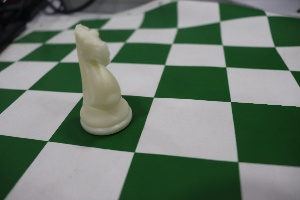white_horse: (59, 10, 142, 145)
